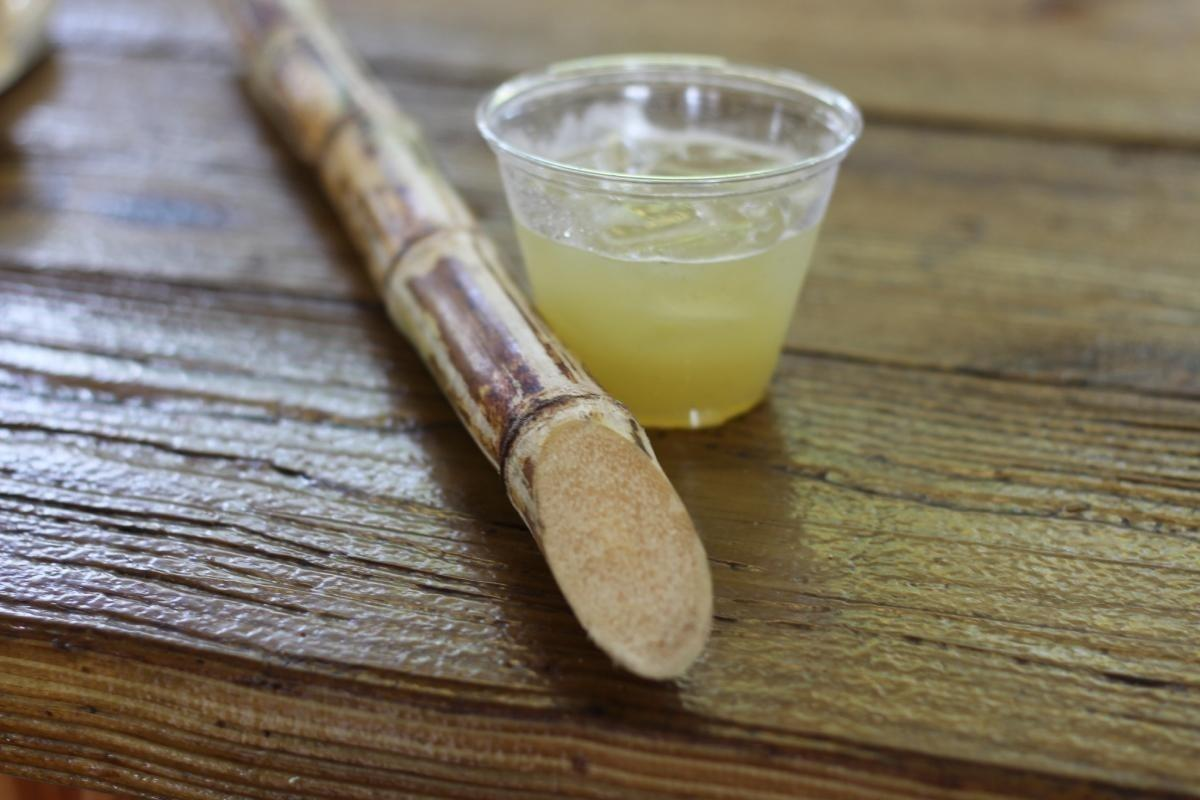cup-disposable: (474, 53, 866, 431)
